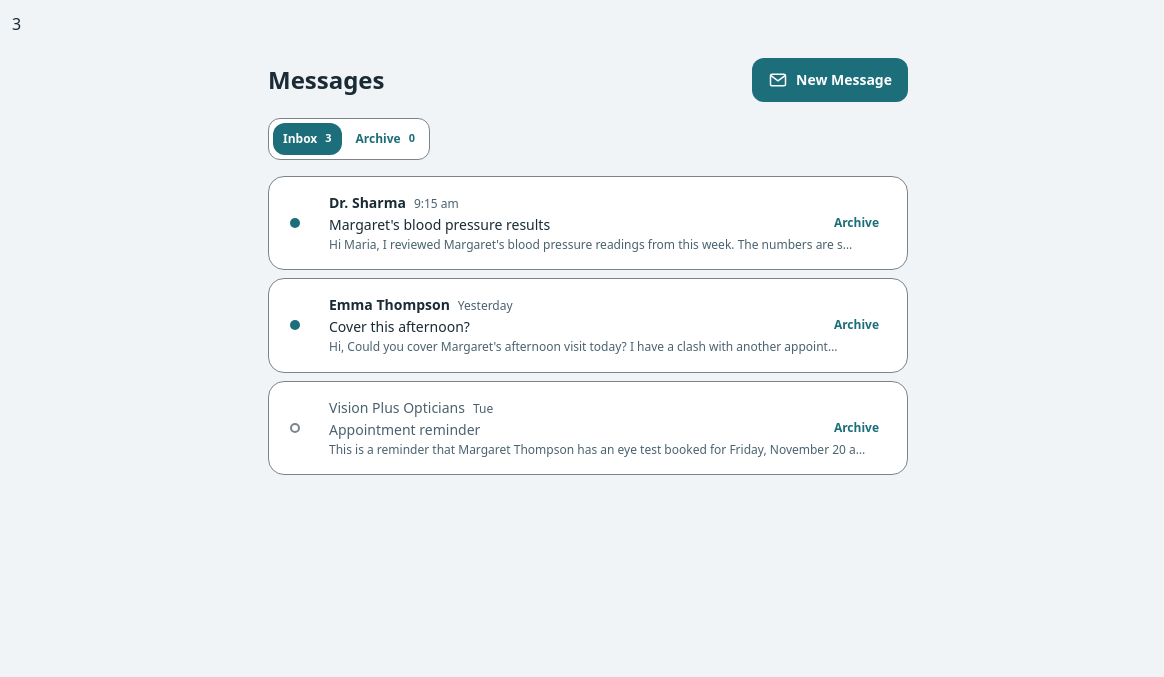
Test: MessagesPage › opening a message shows details and marks it read; back returns to the list
Click the button with aria-label "Unread message from Dr. Sharma: Margaret's blood pressure re".
click(367, 202)  # box left=321, top=185, right=818, bottom=261
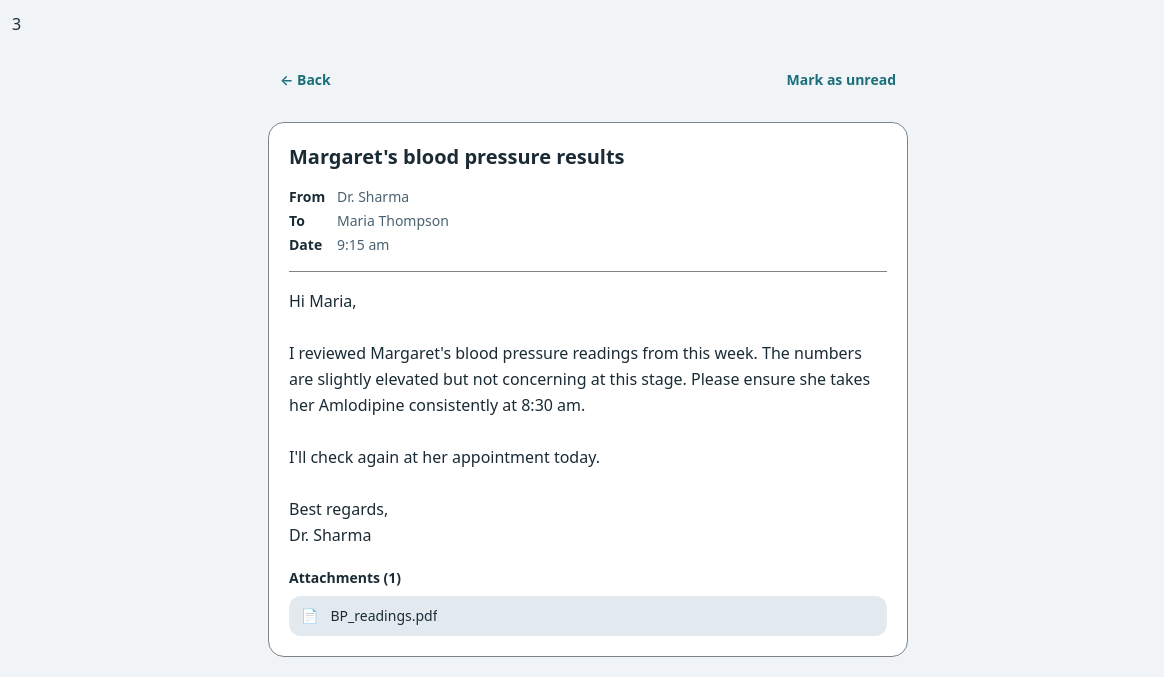
Expected: the heading "Margaret's blood pressure results" is shown, left=289, top=143, right=625, bottom=170
Result: the button "Mark as unread" is shown
Click the button "Mark as unread".
click(841, 80)  # box left=774, top=58, right=908, bottom=102
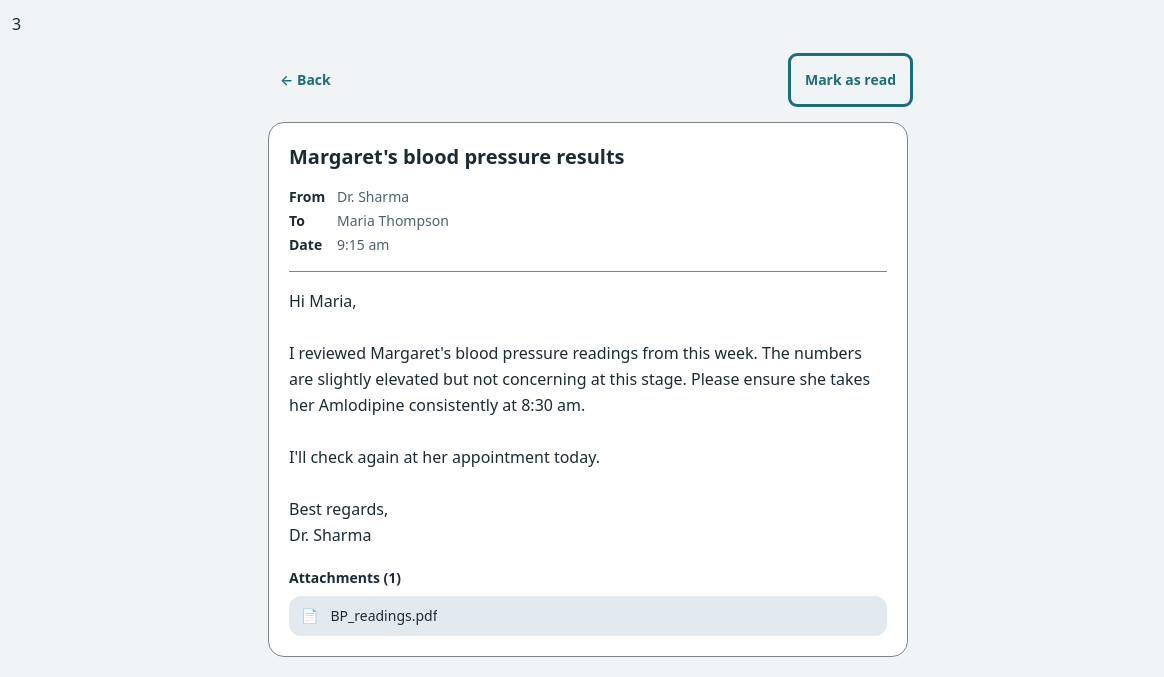
Result: the button "Mark as read" is shown at left=793, top=58, right=908, bottom=102
Click the button with aria-label "back to messages".
click(305, 80)  # box left=268, top=58, right=343, bottom=102
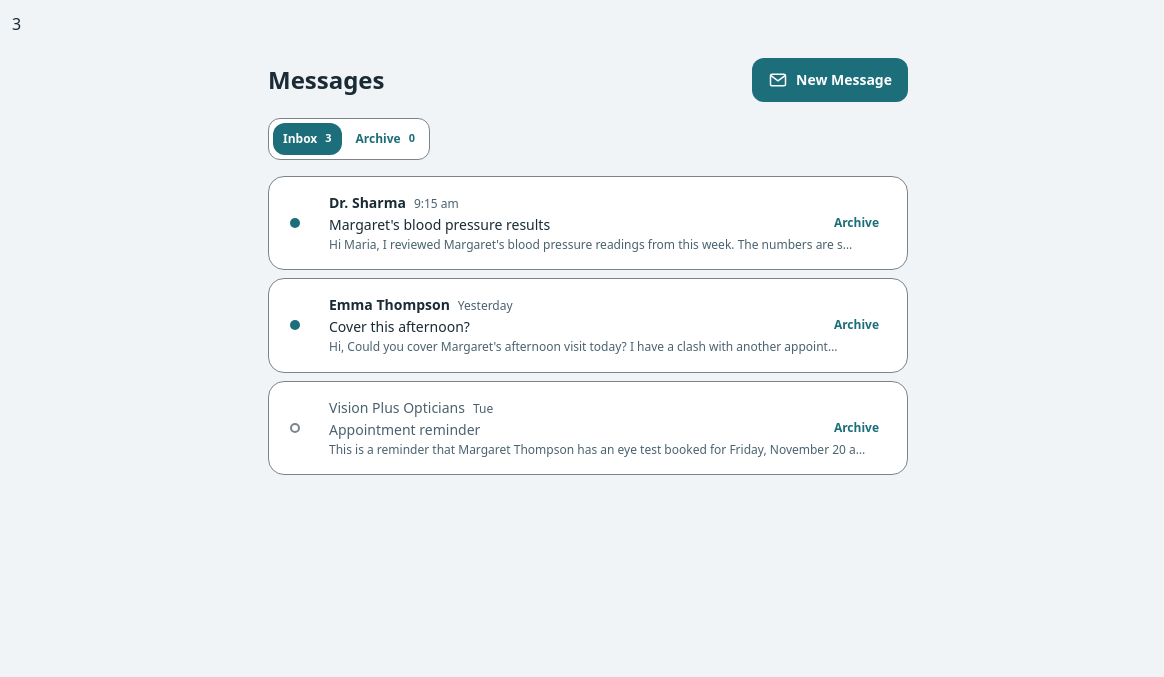
Result: the list named "inbox messages" is shown at left=268, top=176, right=908, bottom=475
